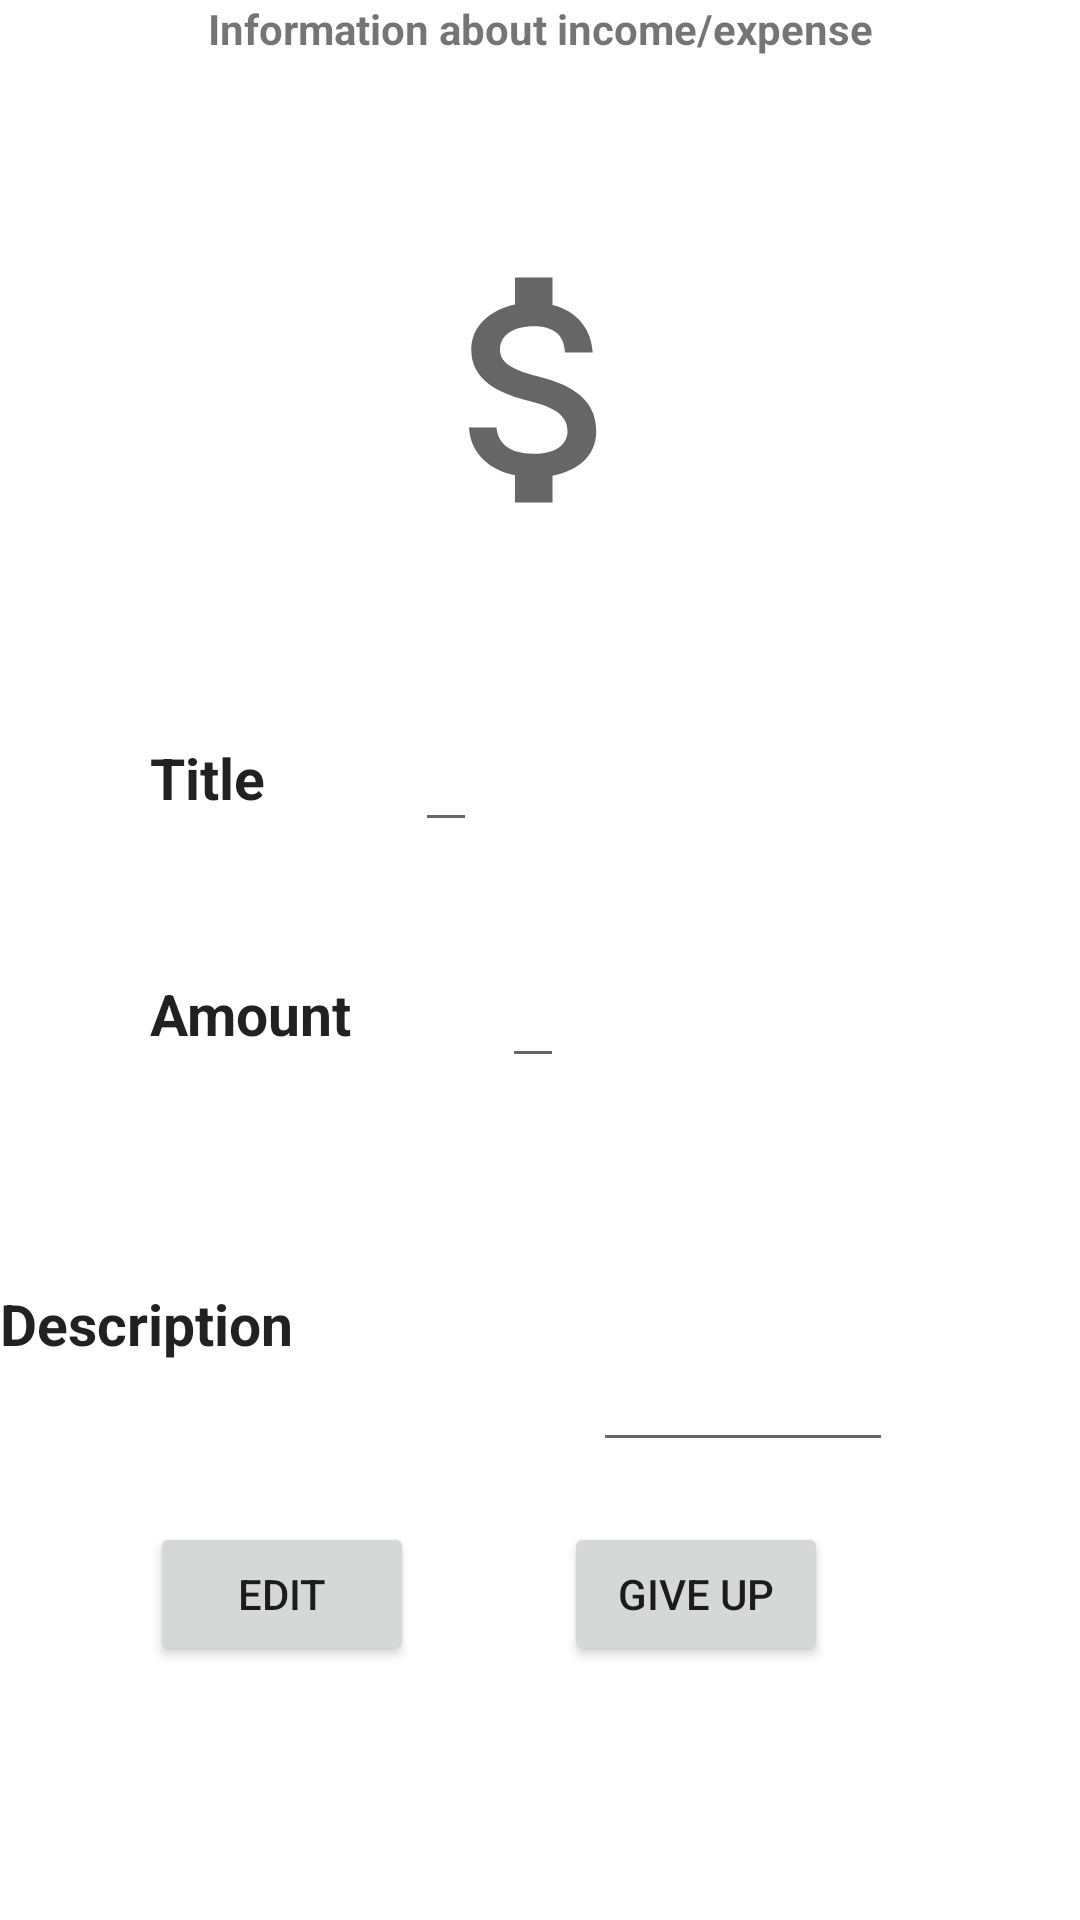

Screen size 1080*1920. Icon name, then its box in pixels as (x1, y1, x2, y2):
moneyicon: (469, 277, 597, 503)
